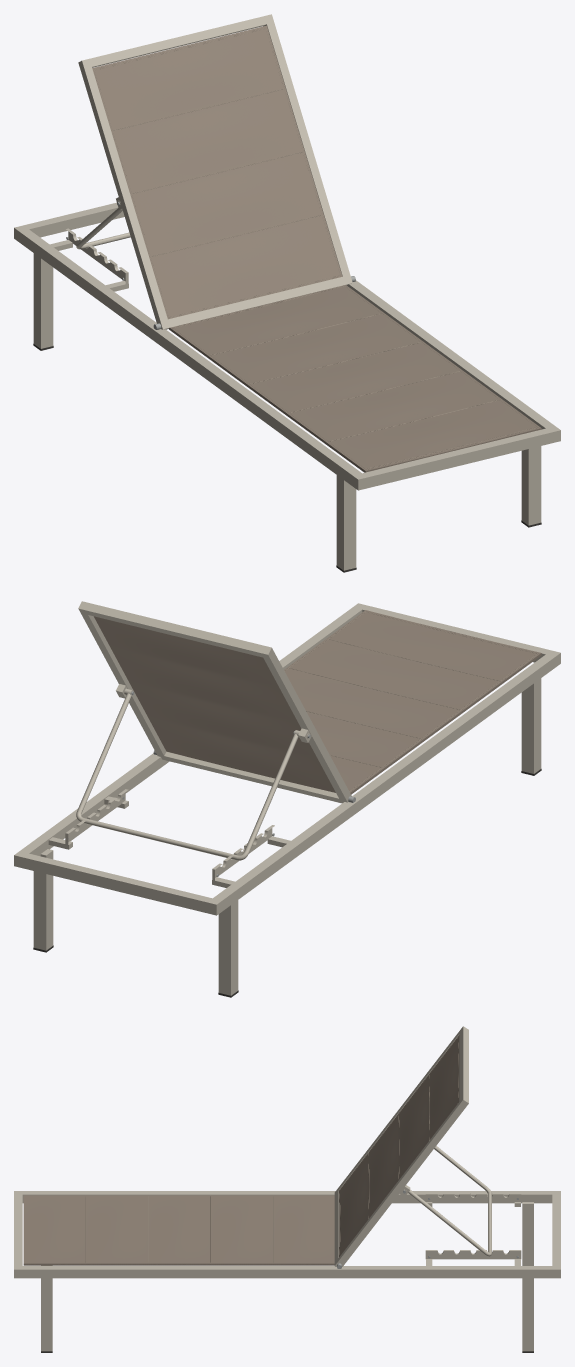
File: C24_taupe_sling_lounger.glb
The picture shows the model from 3 angles, top to bottom: view 1: azimuth 30°, elevation 25°; view 2: azimuth 150°, elevation 25°; view 3: azimuth 270°, elevation 25°; orthographic projection. The views are drawn at different scales.
Parts seen in each view (by area): view 1: Thin four-panel reclining sling textile, Thin five-panel horizontal sling textile, Long straight side base rail -0.324, Exposed slim rectangular back side frame -0.306, Square transverse base end rail 0.984, Long straight side base rail 0.324, Exposed slim rectangular back side frame 0.306, Backrest transverse square frame -0.795, Short rectangular leg (-0.31, -0.88), Short rectangular leg (-0.31, 0.88), Backrest transverse square frame 0, Backrest cross seams and double perimeter stitching (+3 smaller); view 2: Thin five-panel horizontal sling textile, Thin four-panel reclining sling textile, Long straight side base rail -0.324, Long straight side base rail 0.324, Square transverse base end rail -0.984, Continuous rear U-shaped reclining support, Backrest transverse square frame -0.795, Exposed slim rectangular back side frame -0.306, Short rectangular leg (-0.31, 0.88), Short rectangular leg (-0.31, -0.88), Short rectangular leg (0.31, -0.88), Backrest transverse square frame 0 (+5 smaller); view 3: Thin five-panel horizontal sling textile, Thin four-panel reclining sling textile, Long straight side base rail 0.324, Long straight side base rail -0.324, Exposed slim rectangular back side frame 0.306, Continuous rear U-shaped reclining support, Short rectangular leg (0.31, -0.88), Short rectangular leg (0.31, 0.88), Five-hook backrest adjustment rack -0.246, Five-hook backrest adjustment rack 0.246, Short rectangular leg (-0.31, -0.88), Backrest transverse square frame -0.795 (+5 smaller).
Part boxes in pixels (bbox=[...]): Thin four-panel reclining sling textile: bbox=[92, 25, 342, 319]; Thin five-panel horizontal sling textile: bbox=[169, 285, 541, 472]; Long straight side base rail -0.324: bbox=[14, 225, 367, 490]; Exposed slim rectangular back side frame -0.306: bbox=[78, 60, 168, 326]; Square transverse base end rail 0.984: bbox=[363, 428, 551, 487]; Long straight side base rail 0.324: bbox=[347, 280, 560, 443]; Exposed slim rectangular back side frame 0.306: bbox=[263, 15, 351, 282]; Backrest transverse square frame -0.795: bbox=[78, 14, 272, 68]; Short rectangular leg (-0.31, -0.88): bbox=[33, 253, 53, 348]; Short rectangular leg (-0.31, 0.88): bbox=[336, 475, 356, 570]; Backrest transverse square frame 0: bbox=[160, 275, 352, 329]; Backrest cross seams and double perimeter stitching: bbox=[94, 27, 341, 318]; Thin five-panel horizontal sling textile: bbox=[284, 610, 541, 794]; Thin four-panel reclining sling textile: bbox=[94, 616, 335, 792]; Long straight side base rail -0.324: bbox=[207, 650, 560, 915]; Long straight side base rail 0.324: bbox=[14, 603, 367, 868]; Square transverse base end rail -0.984: bbox=[23, 853, 212, 912]; Continuous rear U-shaped reclining support: bbox=[76, 693, 298, 860]; Backrest transverse square frame -0.795: bbox=[78, 601, 272, 658]; Exposed slim rectangular back side frame -0.306: bbox=[261, 648, 351, 802]; Short rectangular leg (-0.31, 0.88): bbox=[521, 678, 541, 773]; Short rectangular leg (-0.31, -0.88): bbox=[218, 900, 238, 995]; Short rectangular leg (0.31, -0.88): bbox=[33, 849, 53, 950]; Backrest transverse square frame 0: bbox=[157, 751, 351, 803]; Thin five-panel horizontal sling textile: bbox=[23, 1195, 334, 1265]; Thin four-panel reclining sling textile: bbox=[339, 1035, 459, 1256]; Long straight side base rail 0.324: bbox=[14, 1266, 560, 1278]; Long straight side base rail -0.324: bbox=[14, 1191, 560, 1203]; Exposed slim rectangular back side frame 0.306: bbox=[335, 1097, 468, 1264]; Continuous rear U-shaped reclining support: bbox=[408, 1146, 491, 1256]; Short rectangular leg (0.31, -0.88): bbox=[522, 1278, 533, 1351]; Short rectangular leg (0.31, 0.88): bbox=[41, 1278, 52, 1351]; Five-hook backrest adjustment rack -0.246: bbox=[425, 1193, 521, 1202]; Five-hook backrest adjustment rack 0.246: bbox=[425, 1250, 521, 1259]; Short rectangular leg (-0.31, -0.88): bbox=[522, 1202, 533, 1265]; Backrest transverse square frame -0.795: bbox=[459, 1026, 468, 1107].
Bounding box in the file's own units: 0.68 × 1.01 × 2.
Materials: 5 (1 with a texture image).
